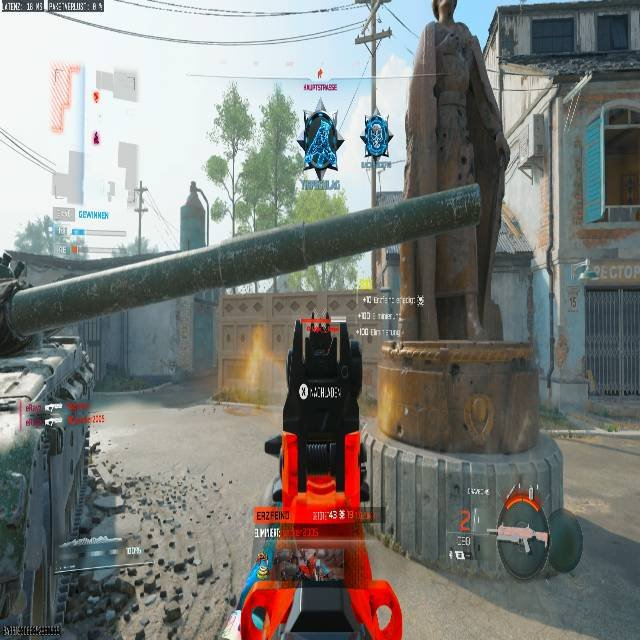head: (431, 0, 460, 22)
player: (297, 110, 342, 180), (361, 111, 391, 169)
